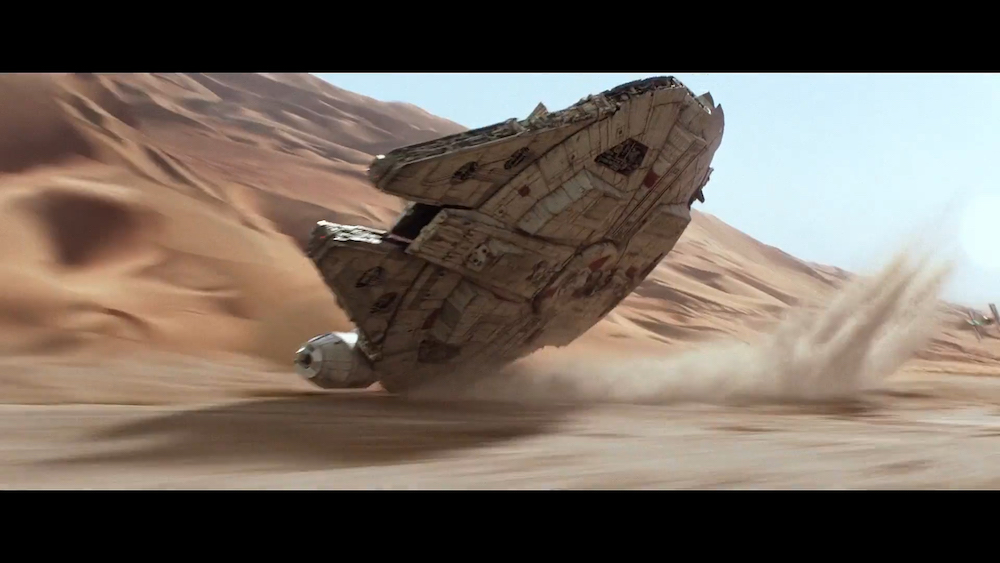Millennium Falcon: (292, 77, 726, 398)
Tie Fighter: (966, 304, 1000, 344)
